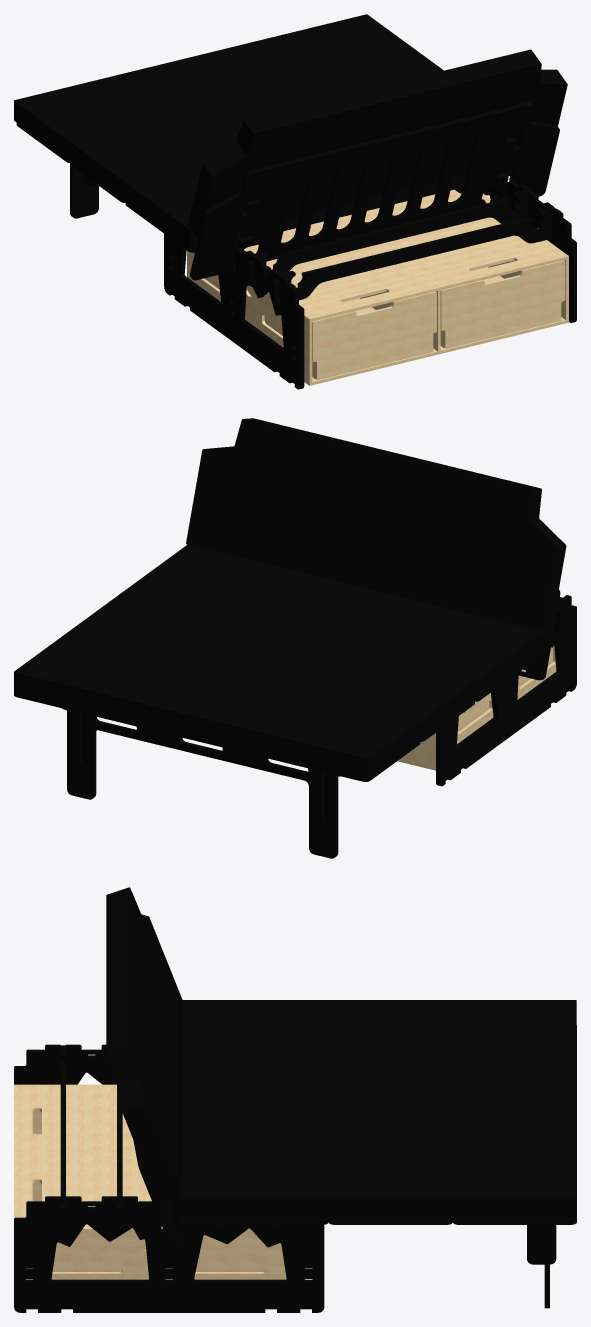
File: Cuillin_expedition_detente.glb
3 views of the same model, one above another, from view 1: azimuth 30°, elevation 25°; view 2: azimuth 150°, elevation 25°; view 3: azimuth 270°, elevation 25° (orthographic). The views are drawn at different scales.
Bounding box in the file's own units: 1.51 × 0.9563 × 1.81.
2 materials, 1 textured.
